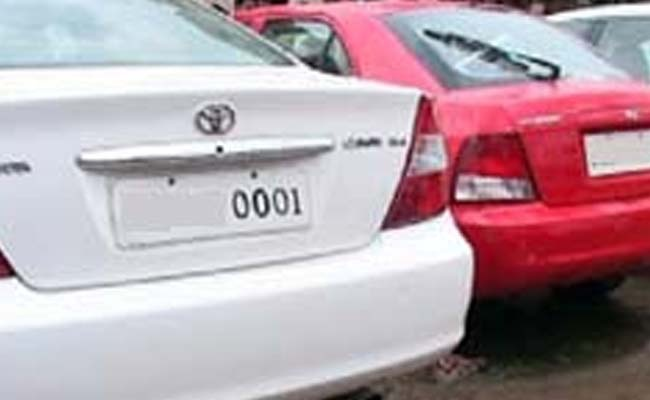plate: (115, 173, 318, 240)
